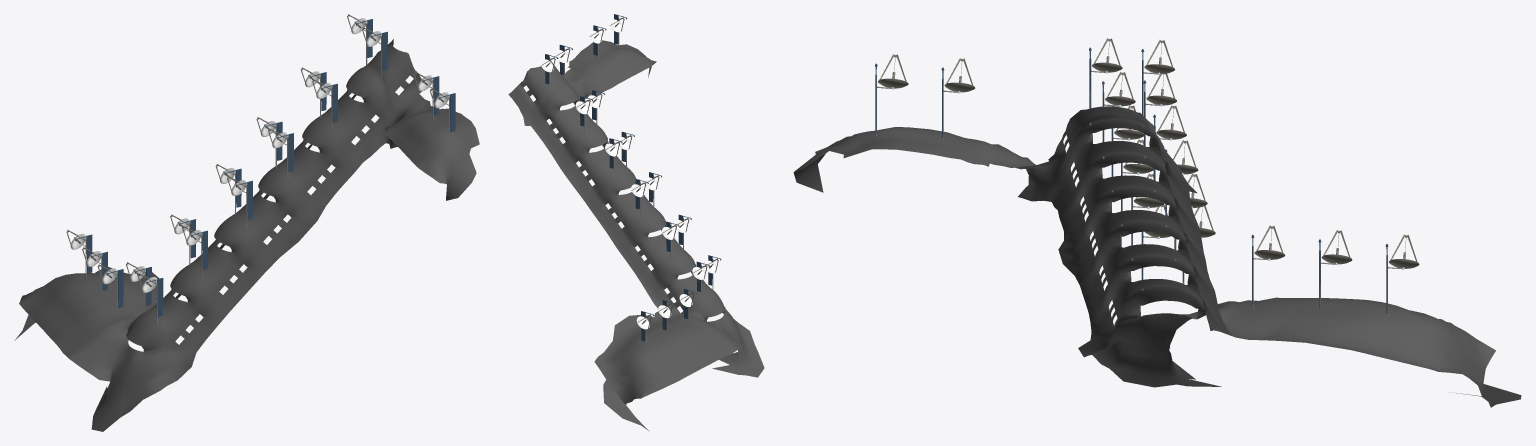
File: Overlay_1stGal_Bottom.glb
3 views of the same model, side by side, from view 1: azimuth 30°, elevation 25°; view 2: azimuth 150°, elevation 25°; view 3: azimuth 270°, elevation 25° (orthographic). The views are drawn at different scales.
Parts seen in each view (by area): view 1: Overlay_1stGal_Bottom, LightTubes_1stLower_Mirrors, LightTubes_1stGalLower_LEDs, LightTubes_1stGalLower_Bases; view 2: Overlay_1stGal_Bottom, LightTubes_1stLower_Mirrors, LightTubes_1stGalLower_LEDs, LightTubes_1stGalLower_Bases; view 3: Overlay_1stGal_Bottom, LightTubes_1stLower_Mirrors, LightTubes_1stGalLower_Bases, LightTubes_1stGalLower_LEDs.
Boxes of the visible parts, bbox=[...] form: Overlay_1stGal_Bottom: bbox=[14, 39, 479, 431]; LightTubes_1stLower_Mirrors: bbox=[66, 14, 449, 292]; LightTubes_1stGalLower_LEDs: bbox=[75, 19, 455, 316]; LightTubes_1stGalLower_Bases: bbox=[83, 23, 449, 323]; Overlay_1stGal_Bottom: bbox=[508, 40, 764, 431]; LightTubes_1stLower_Mirrors: bbox=[540, 17, 718, 329]; LightTubes_1stGalLower_LEDs: bbox=[545, 14, 721, 341]; LightTubes_1stGalLower_Bases: bbox=[549, 16, 713, 344]; Overlay_1stGal_Bottom: bbox=[793, 106, 1521, 407]; LightTubes_1stLower_Mirrors: bbox=[878, 38, 1419, 269]; LightTubes_1stGalLower_Bases: bbox=[875, 59, 1402, 314]; LightTubes_1stGalLower_LEDs: bbox=[875, 47, 1388, 313].
Size of what is drawn, in the model's own units: 280 by 299 by 362.
